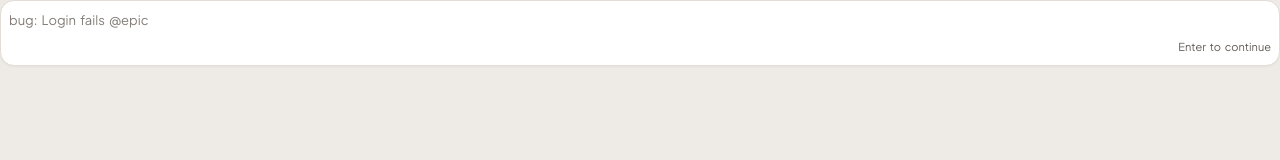
Test: QuickAdd › warns about an unknown epic
Type "fix: thing @nomatch" into the field named "quick add" at (640,21), box [9,11,1271,30]
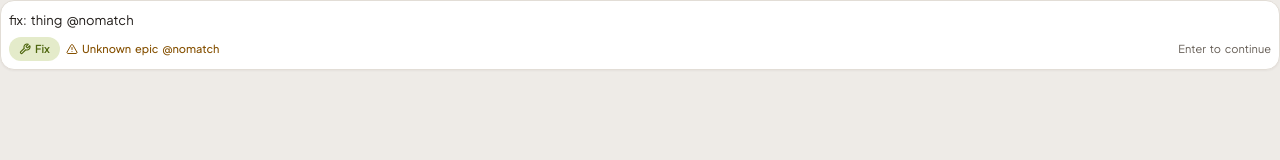
Expected: the text "Unknown epic @nomatch" is shown, [66,40,220,56]
